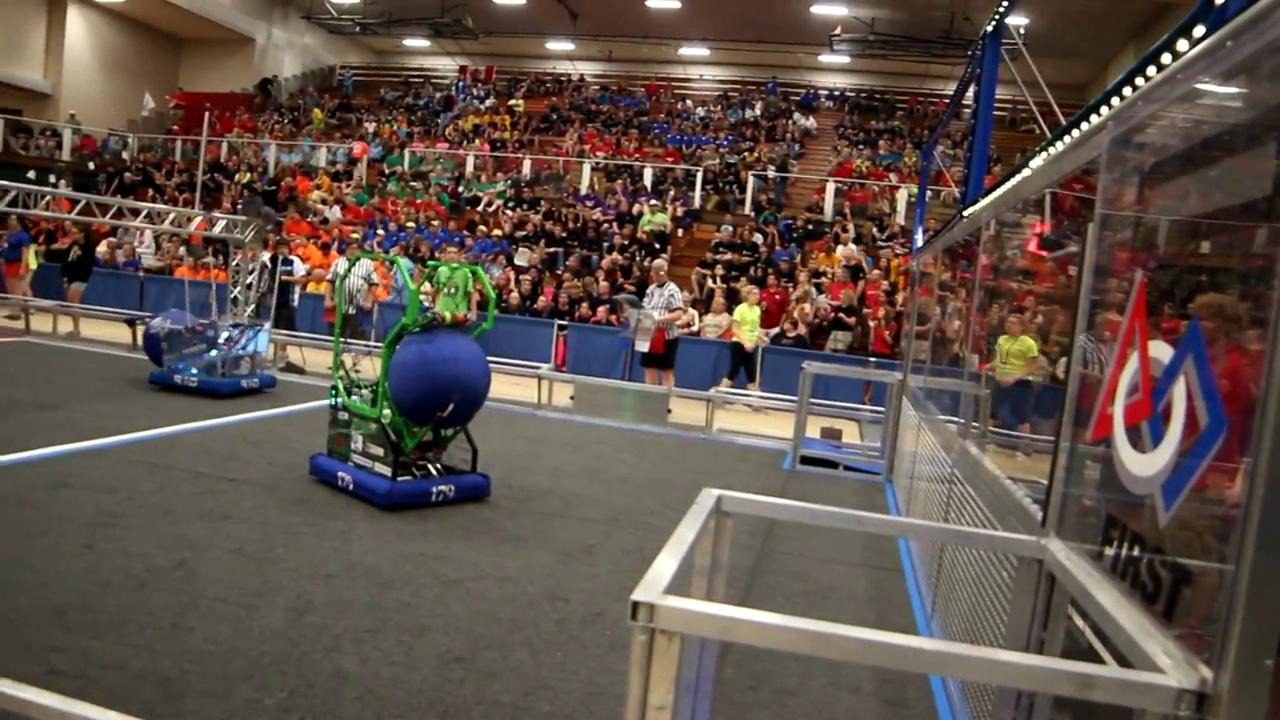robot: (312, 253, 499, 520), (124, 306, 278, 399)
